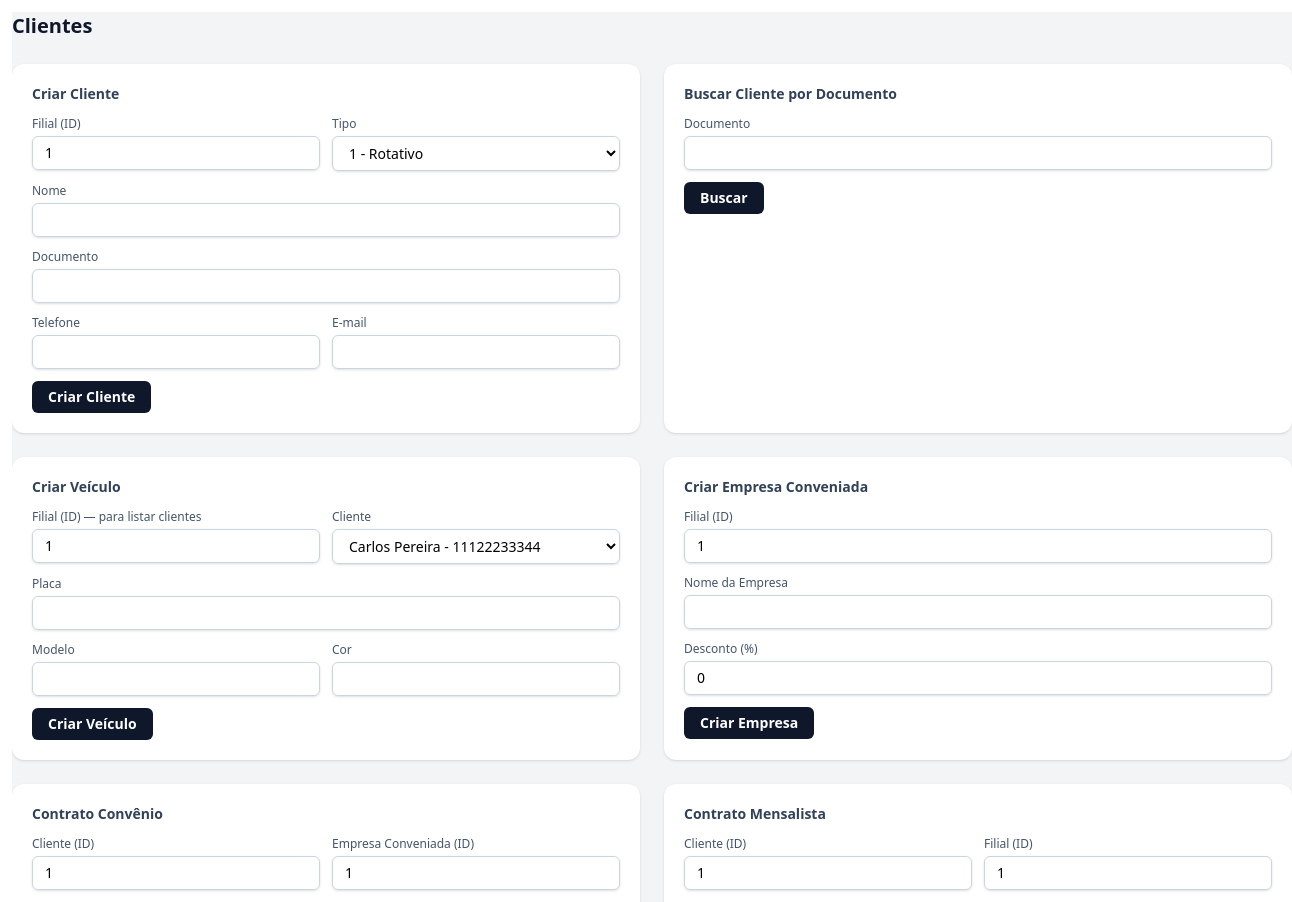
Test case: CustomersPage › searches a customer by document and displays the result
The image size is (1292, 902).
Type "11122233344" into the field with id "searchDocument" at [978, 153], box [684,136,1272,170]
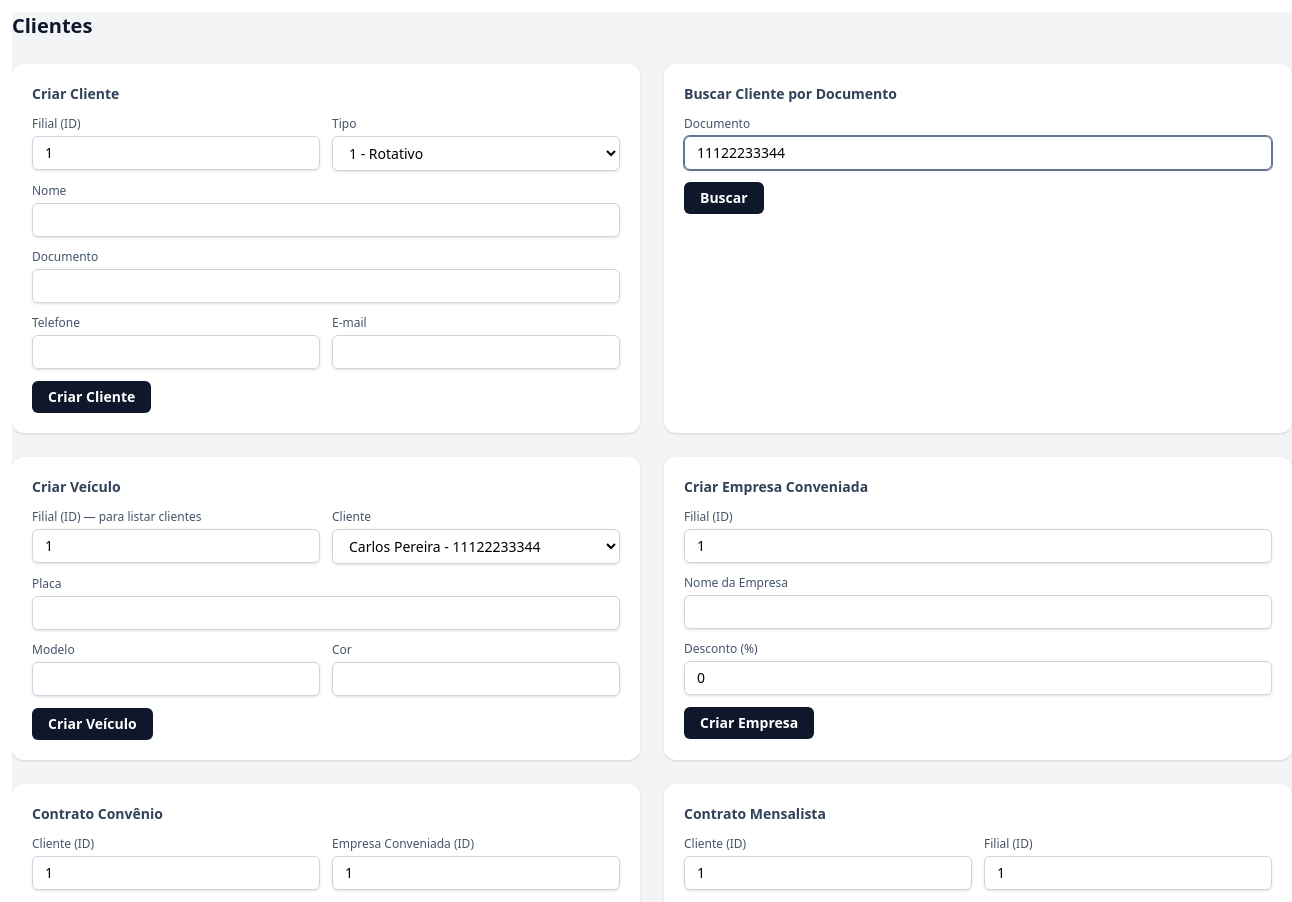
Click the button "Buscar" at [724, 198], box [684,182,764,214]
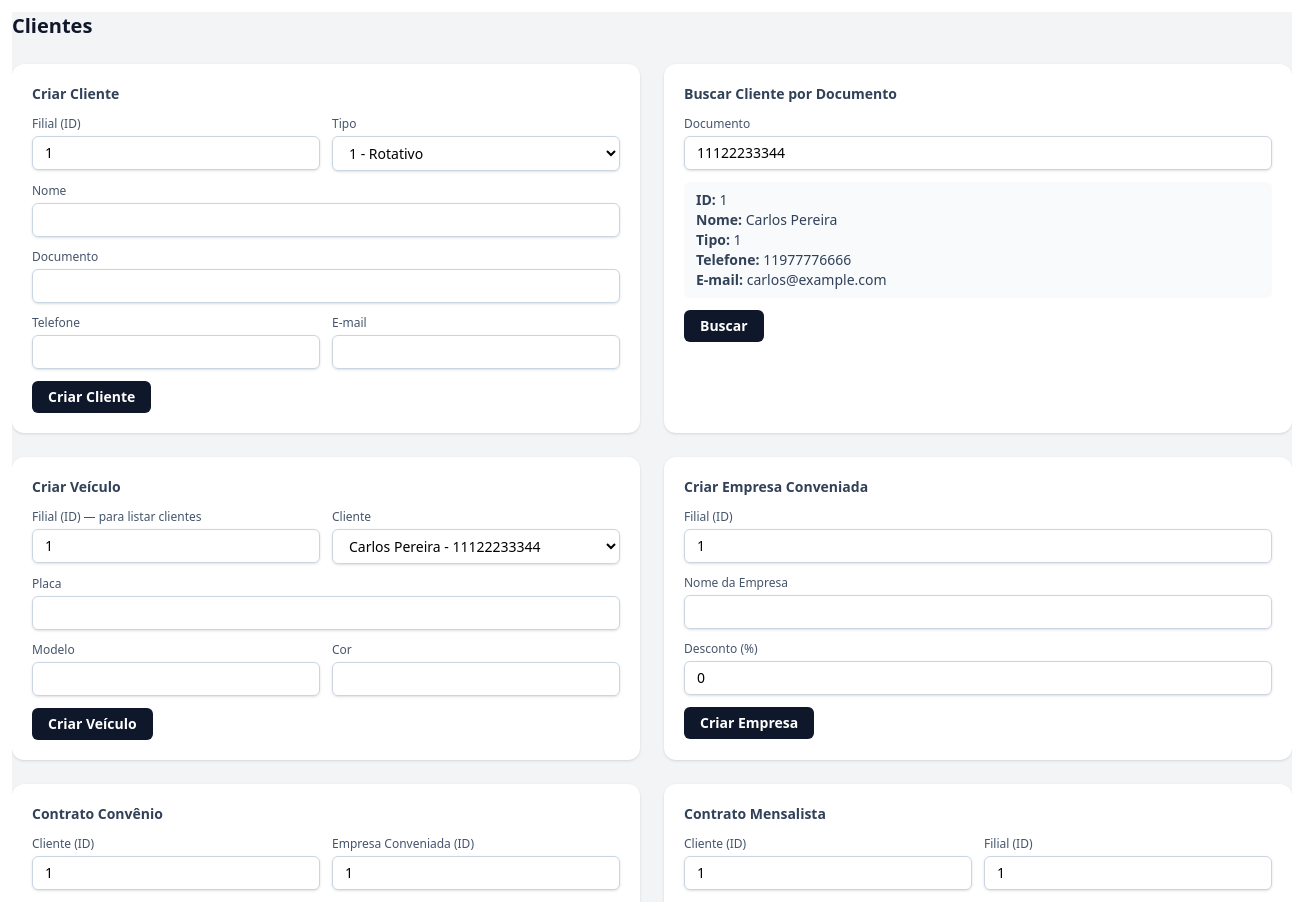
Check: the text "Carlos Pereira" is shown, box [746,210,837,229]
